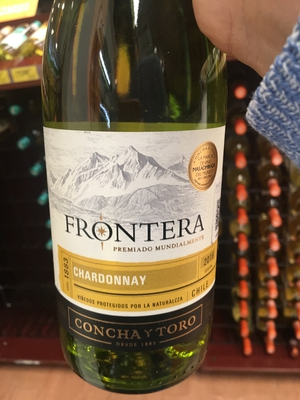frontera chardonnay: (35, 12, 226, 376)
